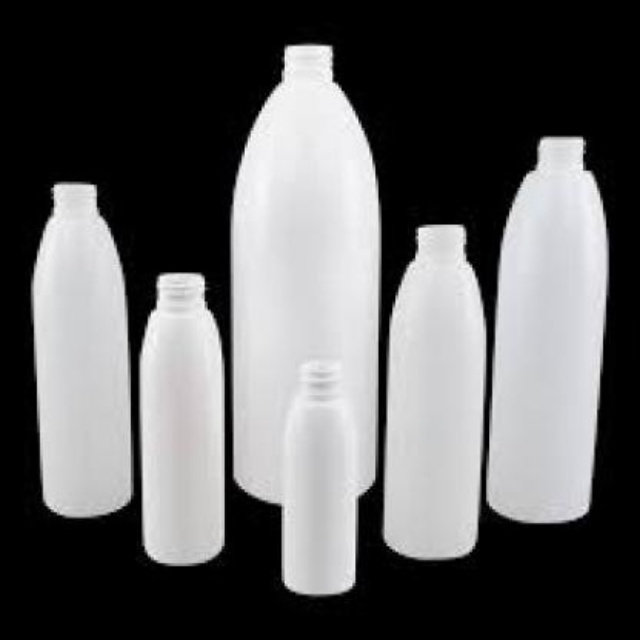trash: (231, 45, 378, 502), (486, 137, 606, 522), (383, 225, 485, 558), (32, 183, 131, 515), (140, 274, 223, 563), (282, 358, 355, 594)
